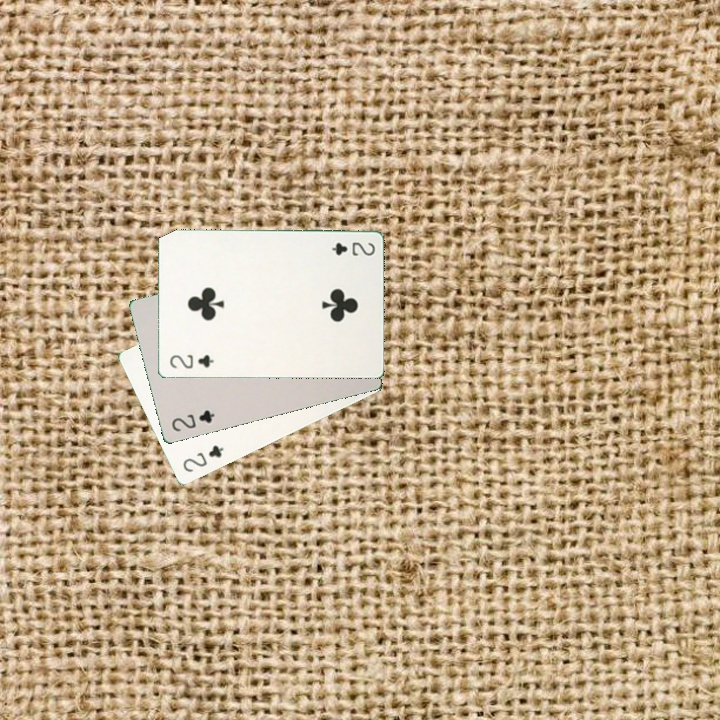2c: (179, 441, 226, 475), (168, 406, 217, 434), (166, 351, 216, 371), (328, 238, 377, 258)
